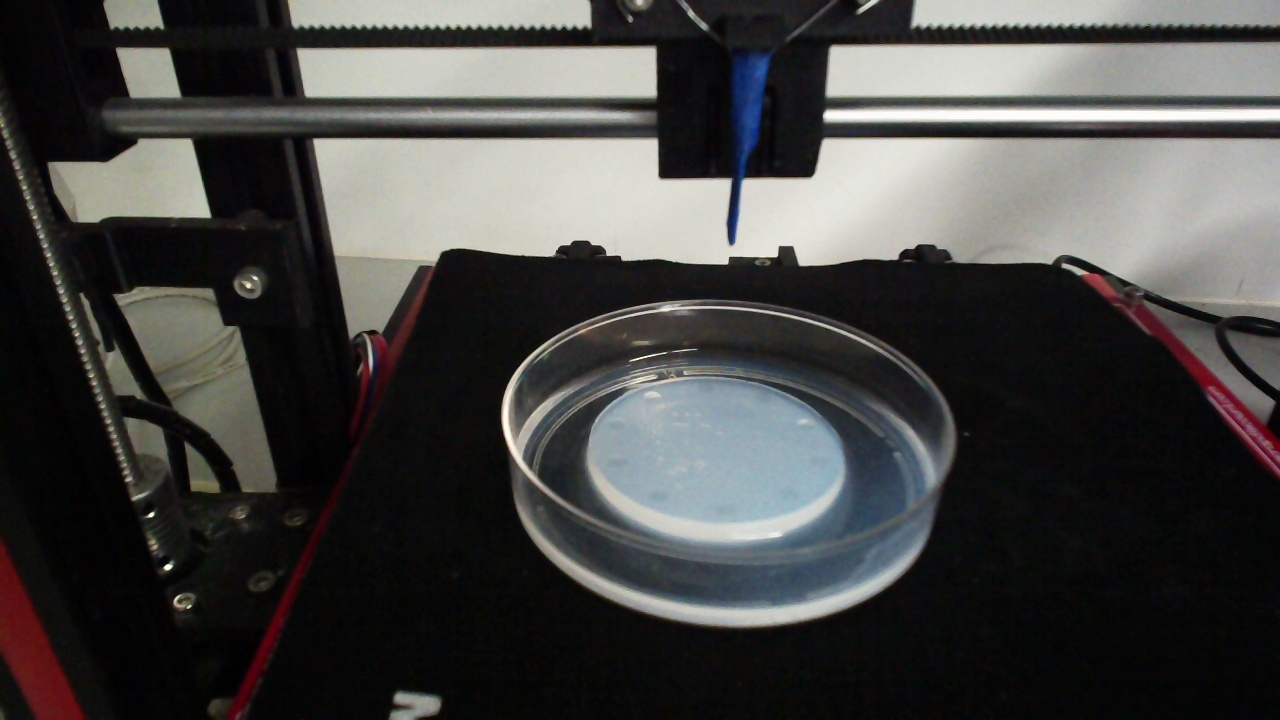groove: (647, 486, 672, 504), (716, 500, 739, 519), (778, 485, 799, 503), (809, 455, 830, 471), (794, 417, 816, 432), (751, 391, 773, 406), (608, 455, 628, 471), (604, 417, 624, 432), (697, 380, 716, 395), (642, 390, 660, 405)
needle: (727, 52, 767, 245)
